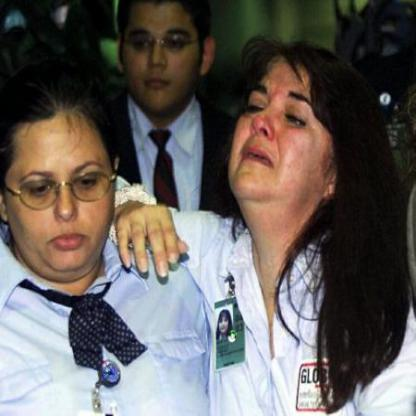face: (3, 80, 117, 278), (225, 44, 346, 223), (121, 1, 205, 116)
